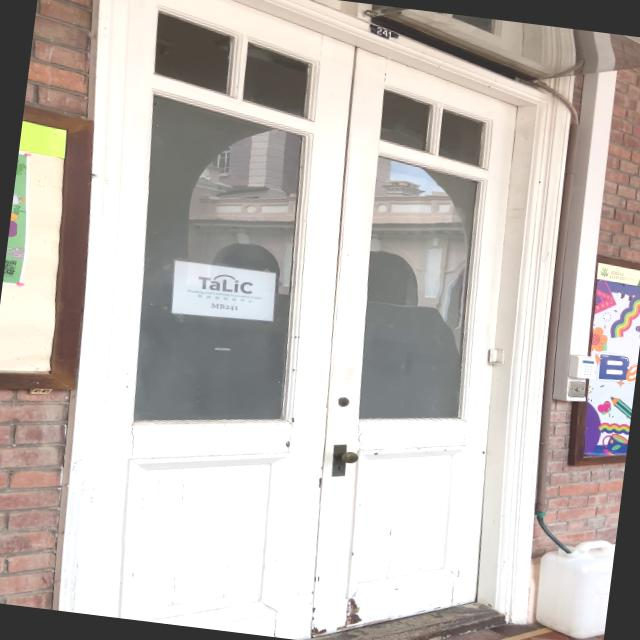room241: (364, 22, 402, 42)
